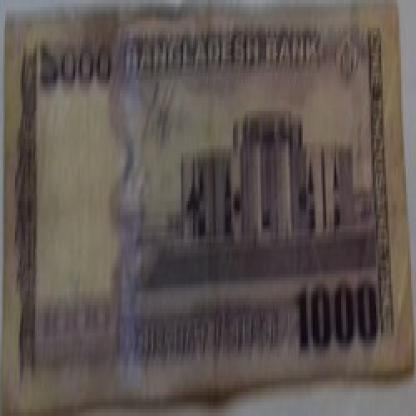One Thousand taka: (286, 277, 383, 357), (35, 31, 116, 90)
